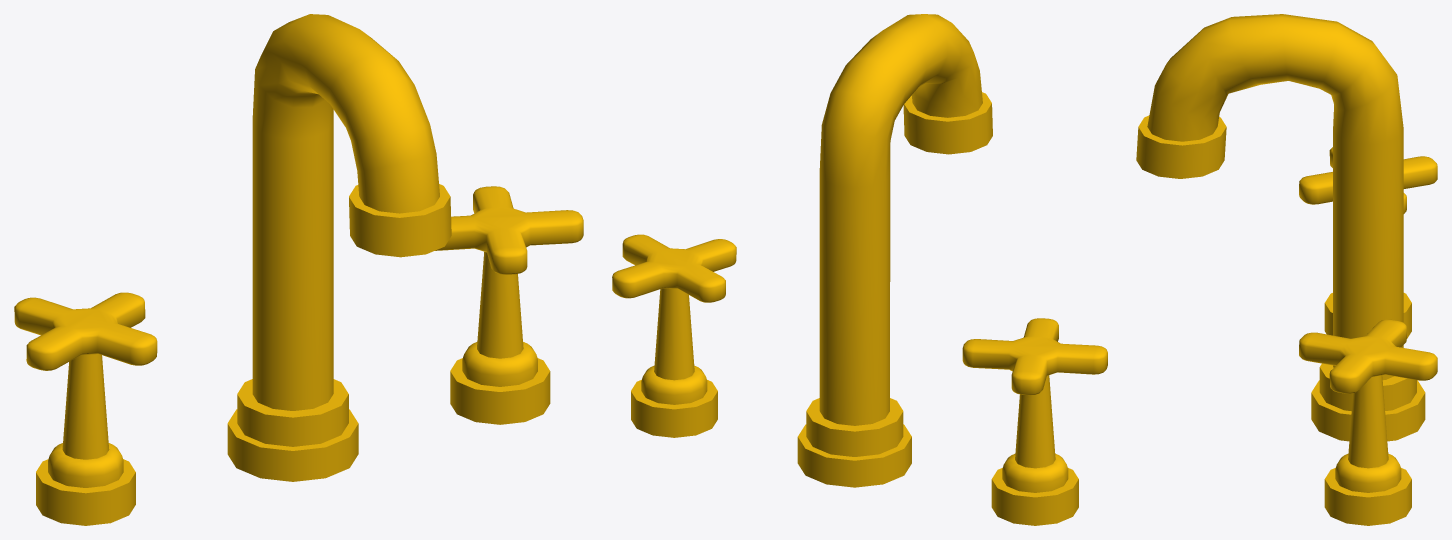
File: Faucet_1.fbx
3 renders of one model, left to right at view 1: azimuth 30°, elevation 25°; view 2: azimuth 150°, elevation 25°; view 3: azimuth 270°, elevation 25°, orthographic. The views are drawn at different scales.
Parts seen in each view (by area): view 1: Faucet_1, Faucet_1 Attachment_1, Faucet_1 Attachment_2; view 2: Faucet_1, Faucet_1 Attachment_2, Faucet_1 Attachment_1; view 3: Faucet_1, Faucet_1 Attachment_2, Faucet_1 Attachment_1.
Part boxes in pixels (x1,y1,x2,y2): Faucet_1: (36, 14, 550, 525); Faucet_1 Attachment_1: (14, 292, 157, 370); Faucet_1 Attachment_2: (435, 186, 583, 274); Faucet_1: (631, 14, 1078, 525); Faucet_1 Attachment_2: (612, 234, 736, 302); Faucet_1 Attachment_1: (962, 318, 1107, 395); Faucet_1: (1136, 14, 1425, 525); Faucet_1 Attachment_2: (1299, 319, 1437, 393); Faucet_1 Attachment_1: (1299, 147, 1437, 213).
Size of the model in its own units: 0.3389 by 0.2706 by 0.1838.
